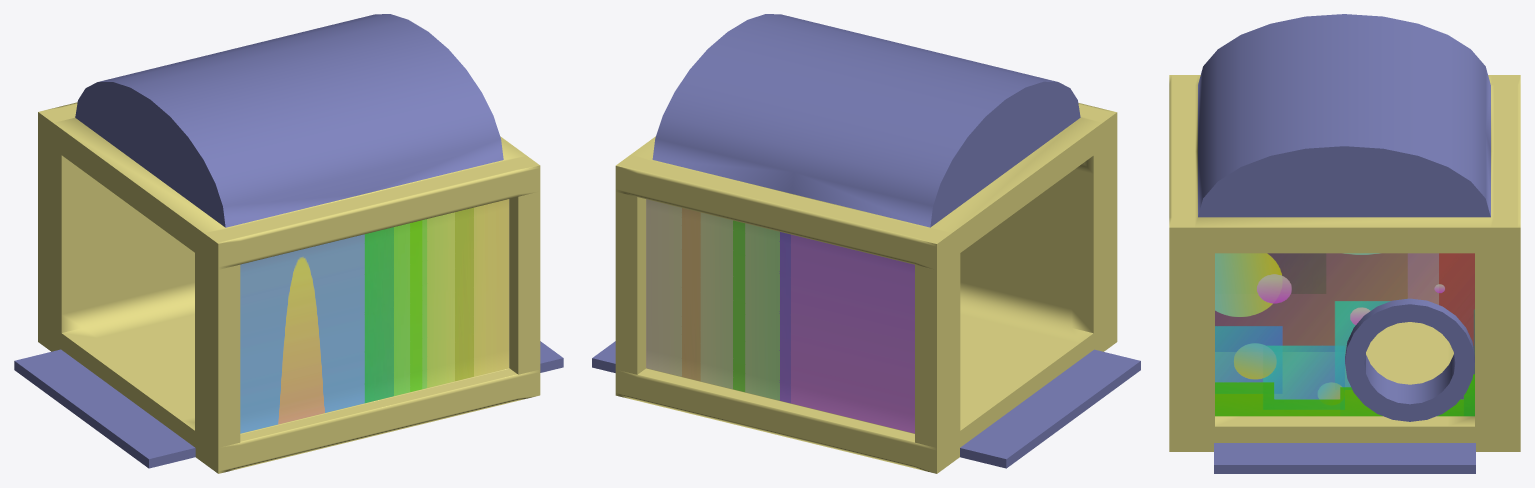
The model's file is sphere_house.fbx.
3 views of the same model, side by side, from view 1: azimuth 30°, elevation 25°; view 2: azimuth 150°, elevation 25°; view 3: azimuth 270°, elevation 25° (orthographic). The views are drawn at different scales.
Parts seen in each view (by area): view 1: polySurface113; view 2: polySurface113; view 3: polySurface113.
Boxes of the visible parts, x1,y1,x2,y2 form: polySurface113: (14,14,563,473); polySurface113: (592,14,1140,473); polySurface113: (1169,14,1520,473).
Size of the model in its own units: 422 by 295 by 317.
